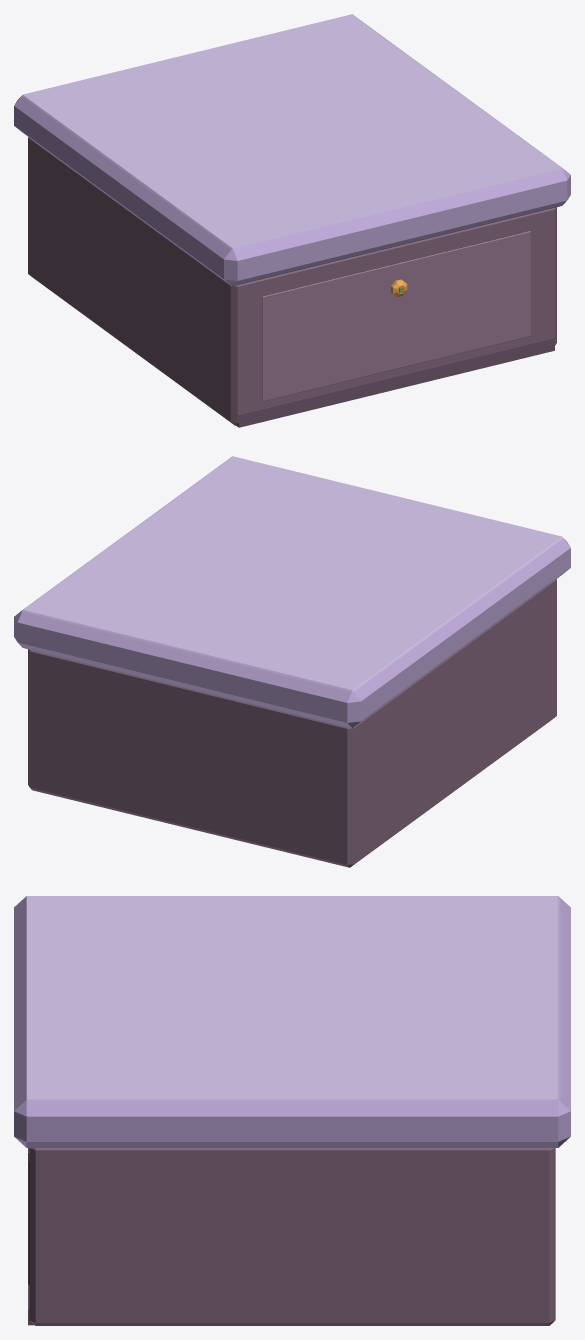
The model's file is Countertop.fbx.
3 views of the same model, one above another, from view 1: azimuth 30°, elevation 25°; view 2: azimuth 150°, elevation 25°; view 3: azimuth 270°, elevation 25° (orthographic). The views are drawn at different scales.
Parts seen in each view (by area): view 1: Countertop; view 2: Countertop; view 3: Countertop.
Boxes of the visible parts, <box> form: Countertop: <box>14,14,570,427</box>; Countertop: <box>14,456,570,867</box>; Countertop: <box>14,896,570,1325</box>.
Size of the model in its own units: 400 by 200 by 439.
Materials: 1 (1 with a texture image).
